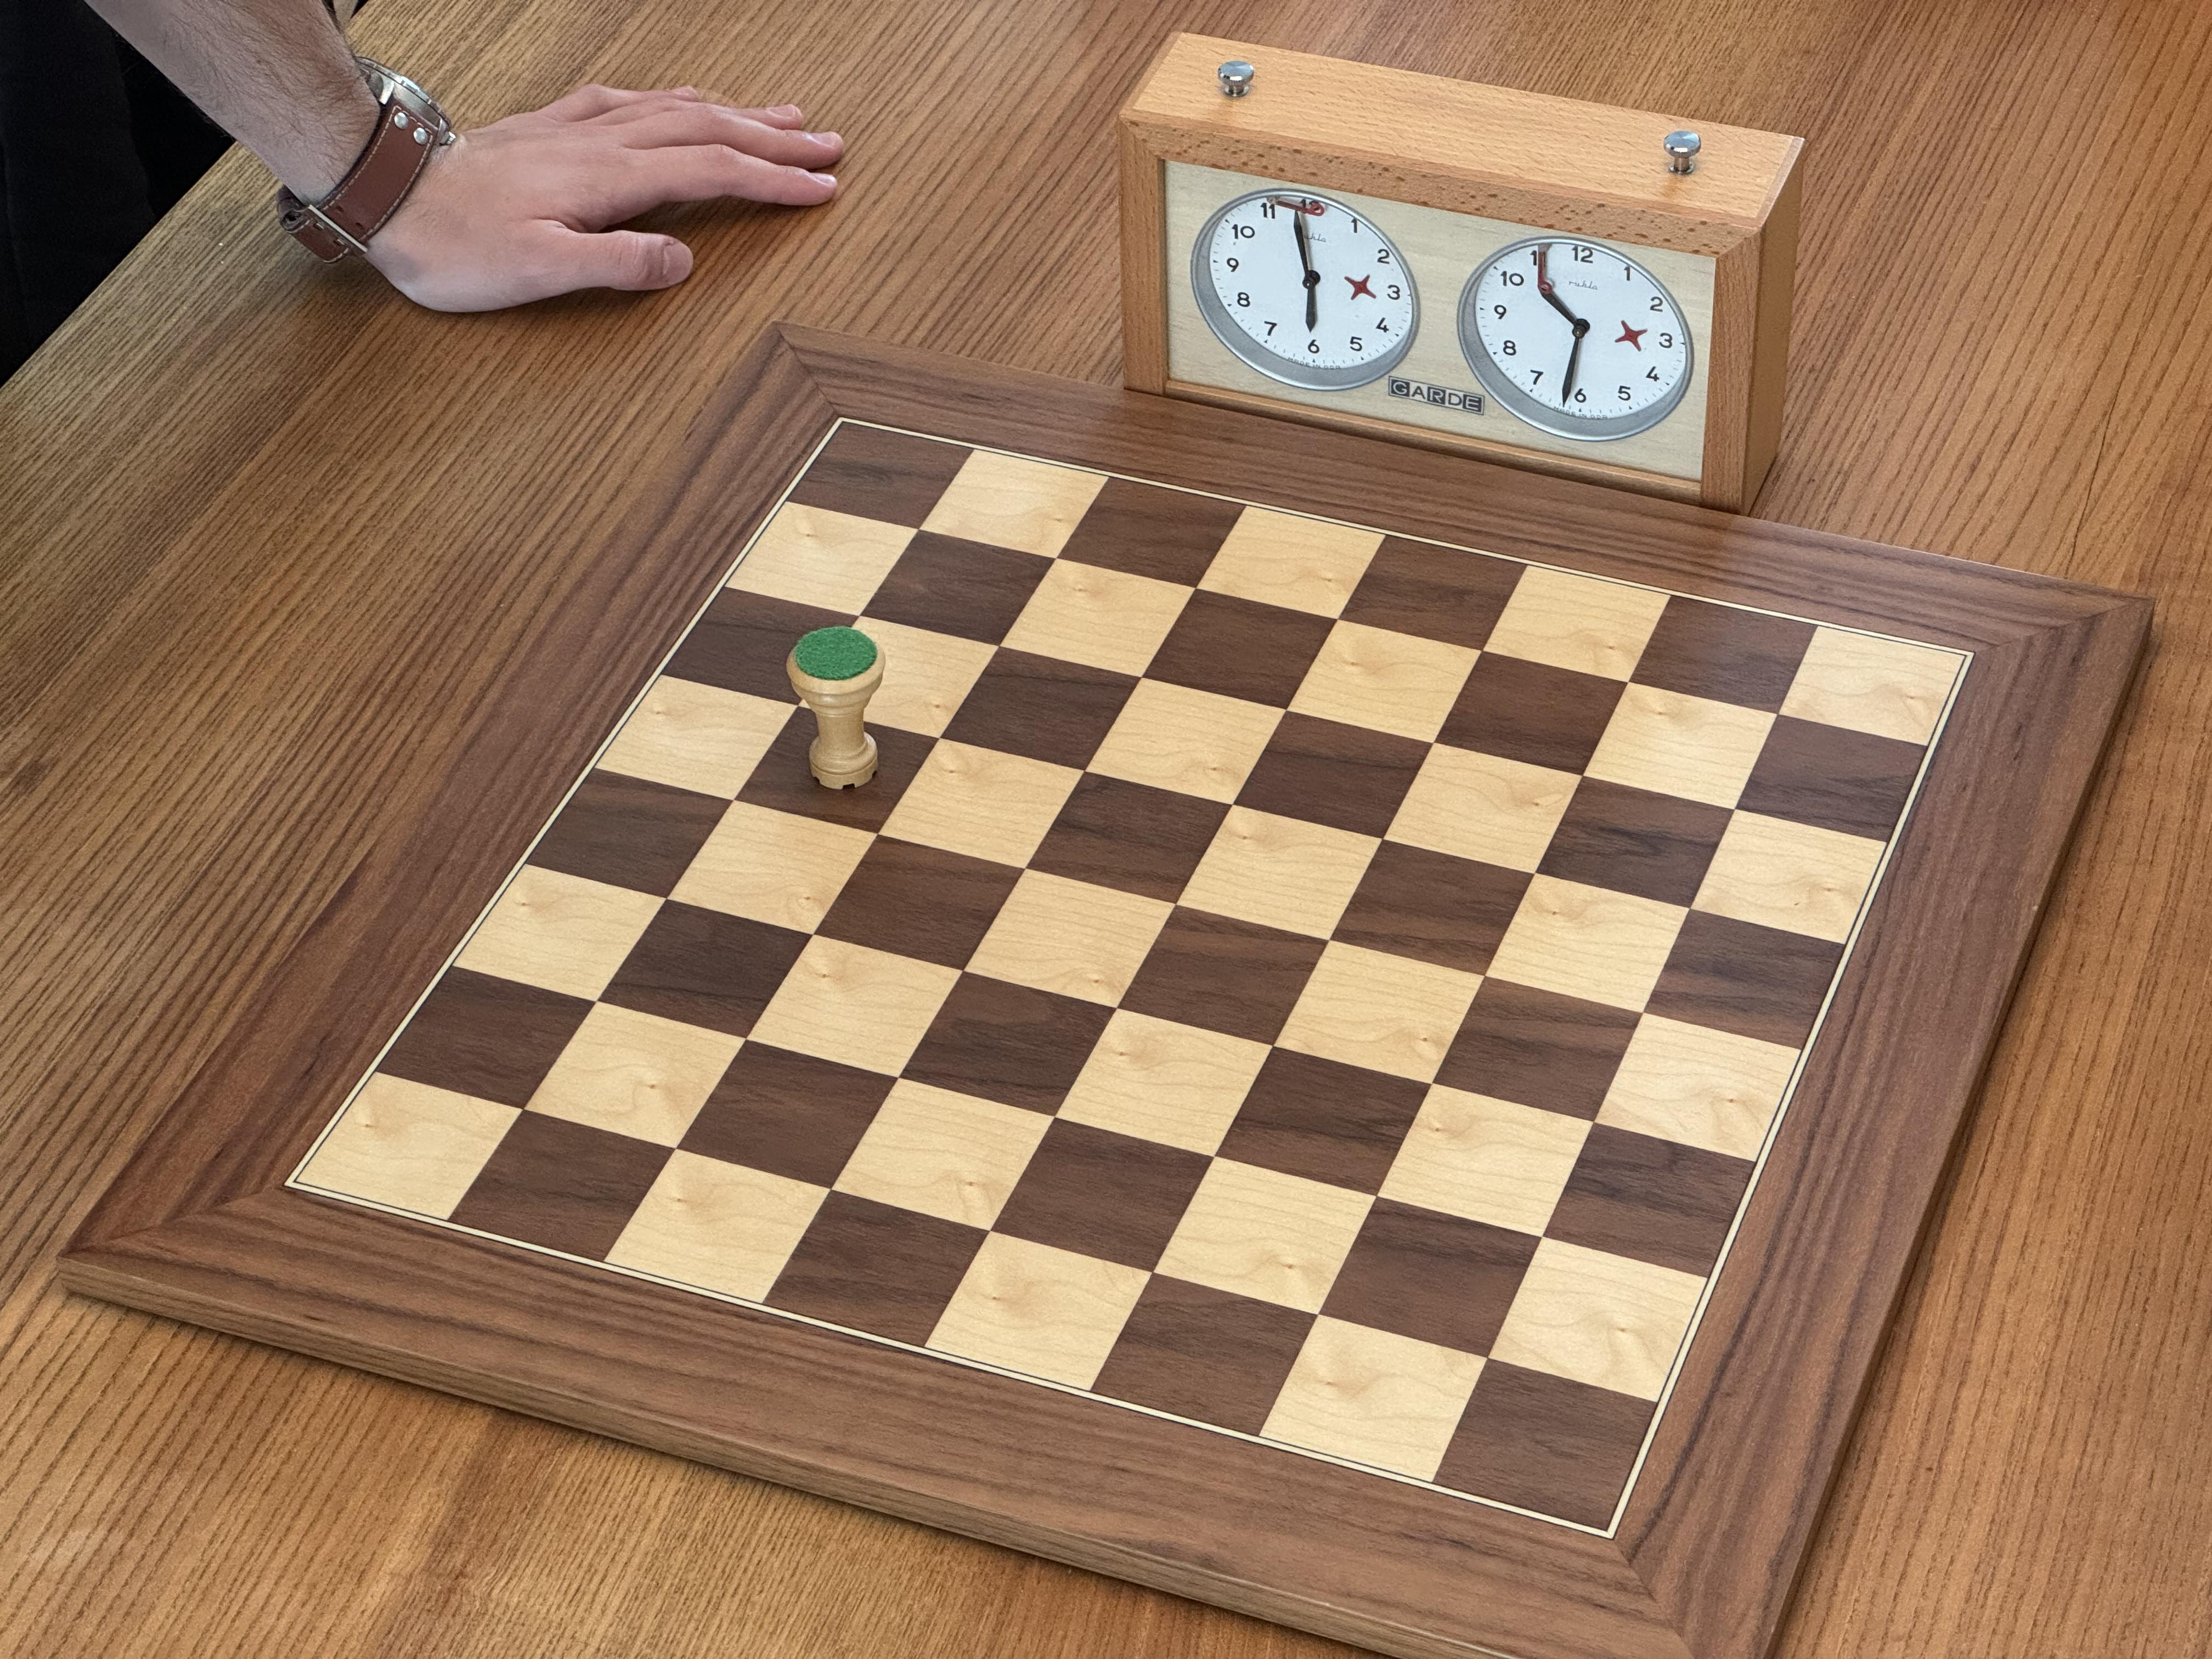White Extra Queen: (782, 622, 890, 793)
